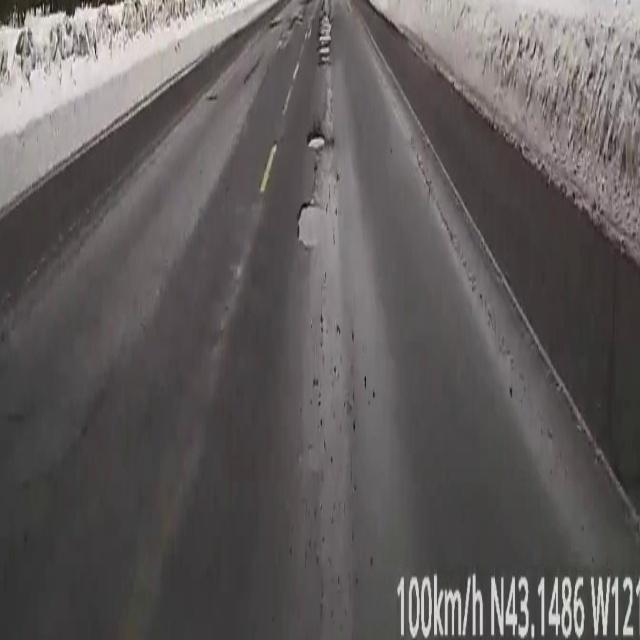pothole: (296, 202, 324, 248), (318, 0, 332, 62), (308, 130, 330, 149)
